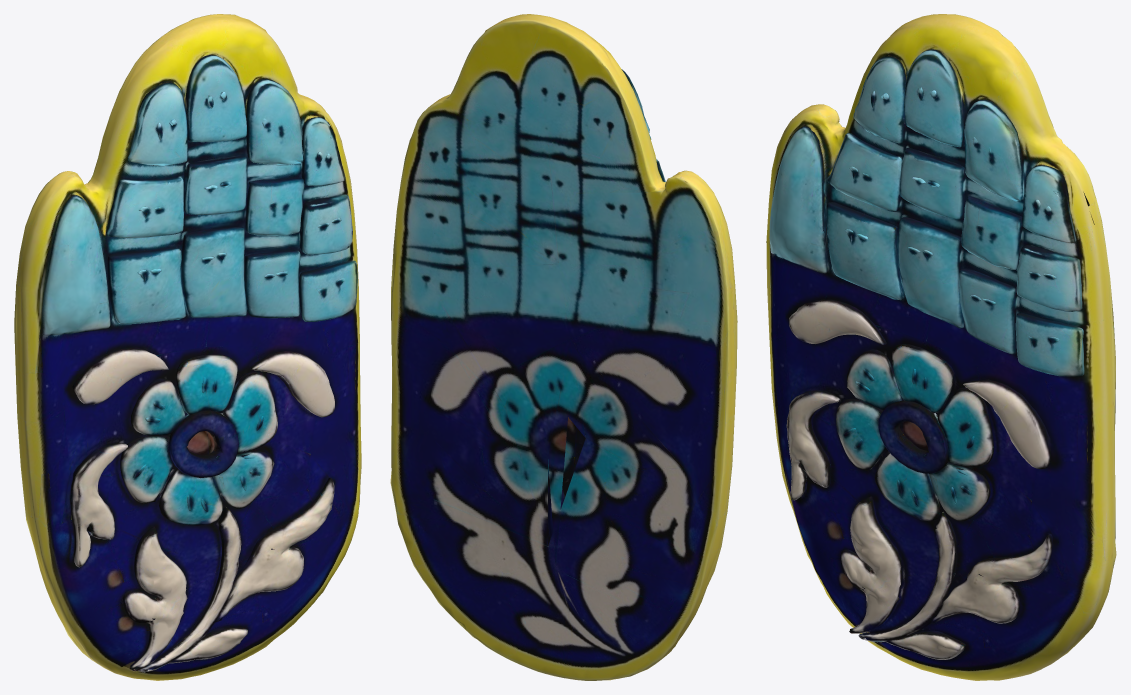
The model's file is hand-of-blue-blossoms.glb.
3 views of the same model, side by side, from view 1: azimuth 30°, elevation 25°; view 2: azimuth 150°, elevation 25°; view 3: azimuth 330°, elevation 25° (orthographic).
Visible parts, largest first — view 1: hand-of-blue-blossoms; view 2: hand-of-blue-blossoms; view 3: hand-of-blue-blossoms.
Boxes of the visible parts, left/top/right/bottom form: hand-of-blue-blossoms: left=14, top=14, right=361, bottom=680; hand-of-blue-blossoms: left=390, top=14, right=737, bottom=680; hand-of-blue-blossoms: left=766, top=14, right=1116, bottom=680.
Bounding box in the file's own units: 0.1527 × 0.28 × 0.023.
Materials: 1 (1 with a texture image).
